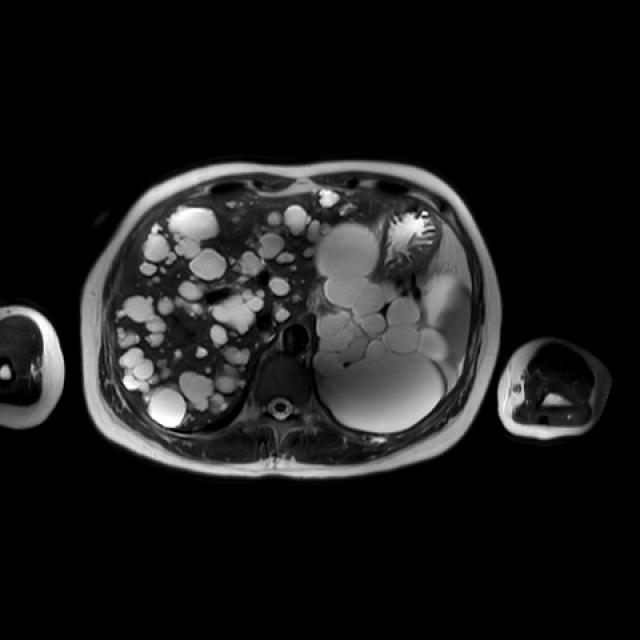sol: (315, 221, 447, 431)
